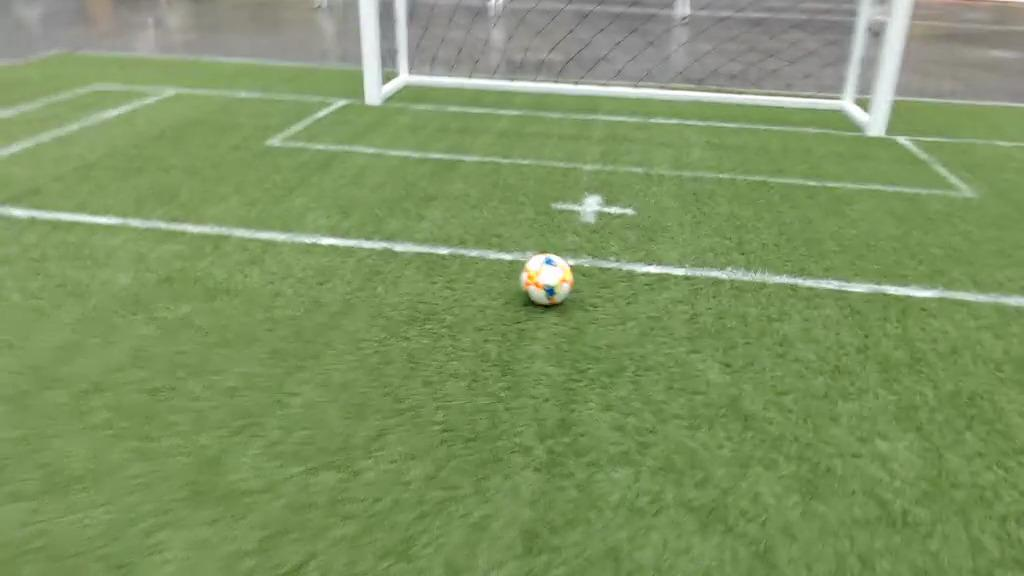ball: (515, 241, 582, 314)
